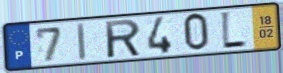0: (181, 11, 212, 54)
4: (146, 15, 175, 55)
7: (34, 25, 64, 63)
I: (76, 21, 88, 62)
L: (219, 10, 248, 52)
R: (103, 17, 142, 60)
